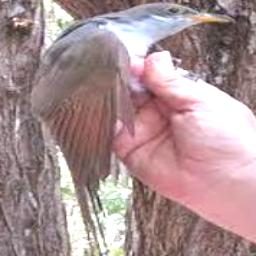Cuckoo: (30, 3, 233, 256)
